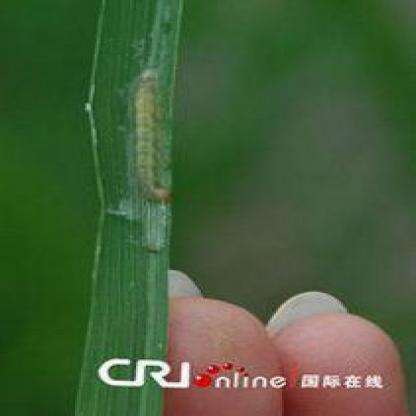leaf-folder: (103, 66, 199, 208)
